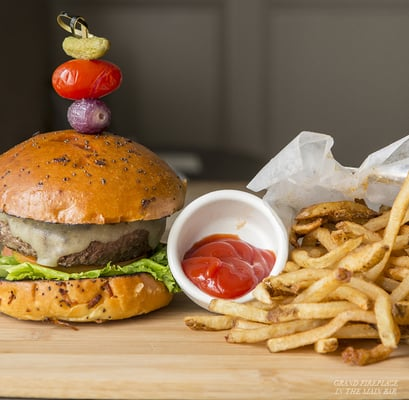soup: (0, 129, 187, 326)
sushi: (167, 188, 289, 319)
